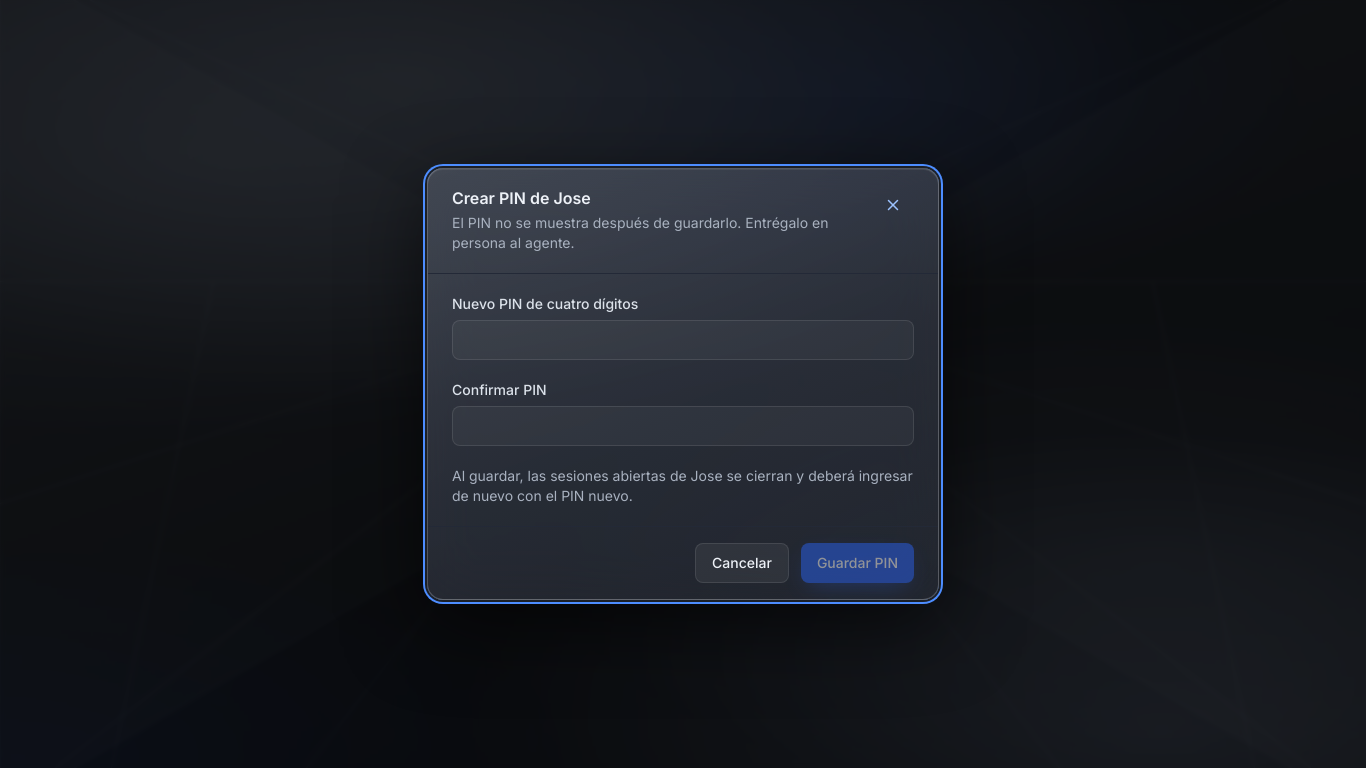
Test: a filled-in value keeps only four digits
Type "20261102Admin99" into the password field labelled "Confirmar PIN" at (683, 426), box [452,406,914,446]
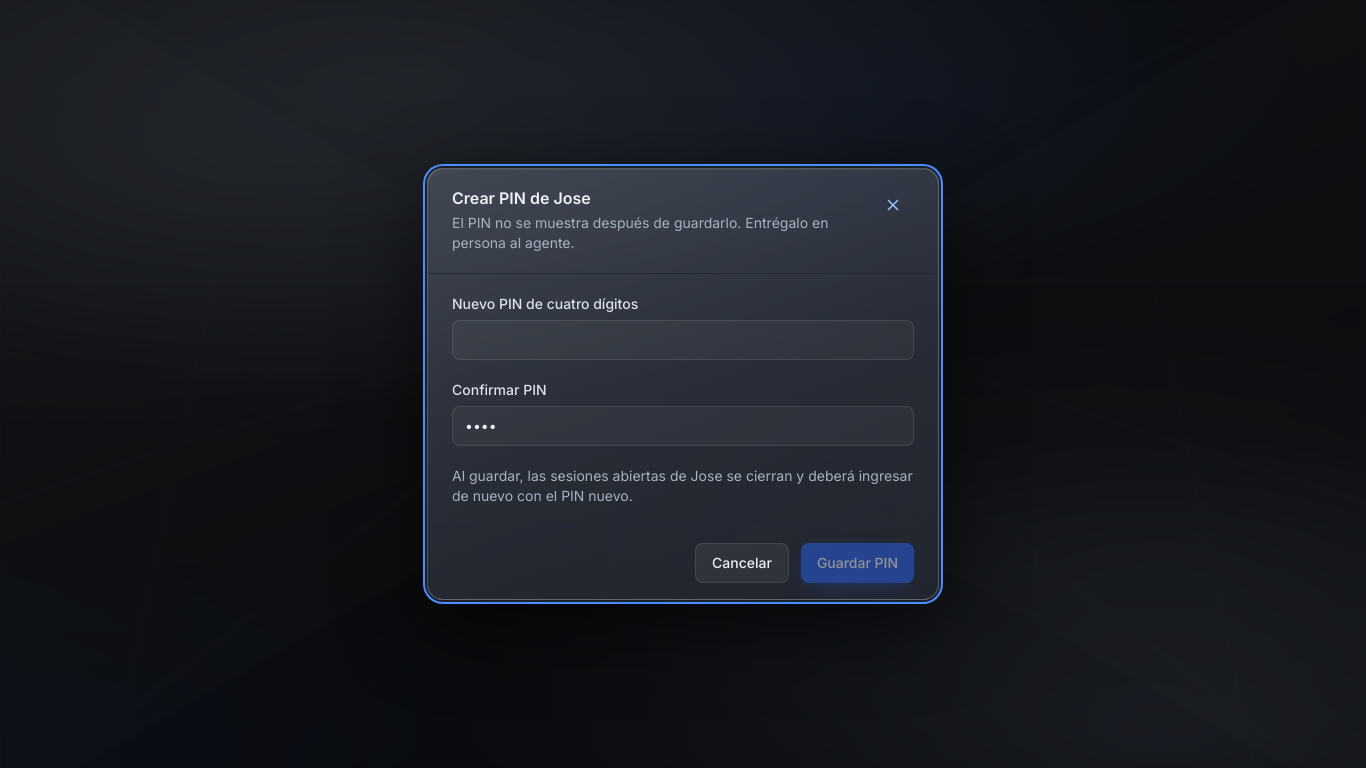
Check: the password field labelled "Confirmar PIN" holds "2026", box [452,406,914,446]
